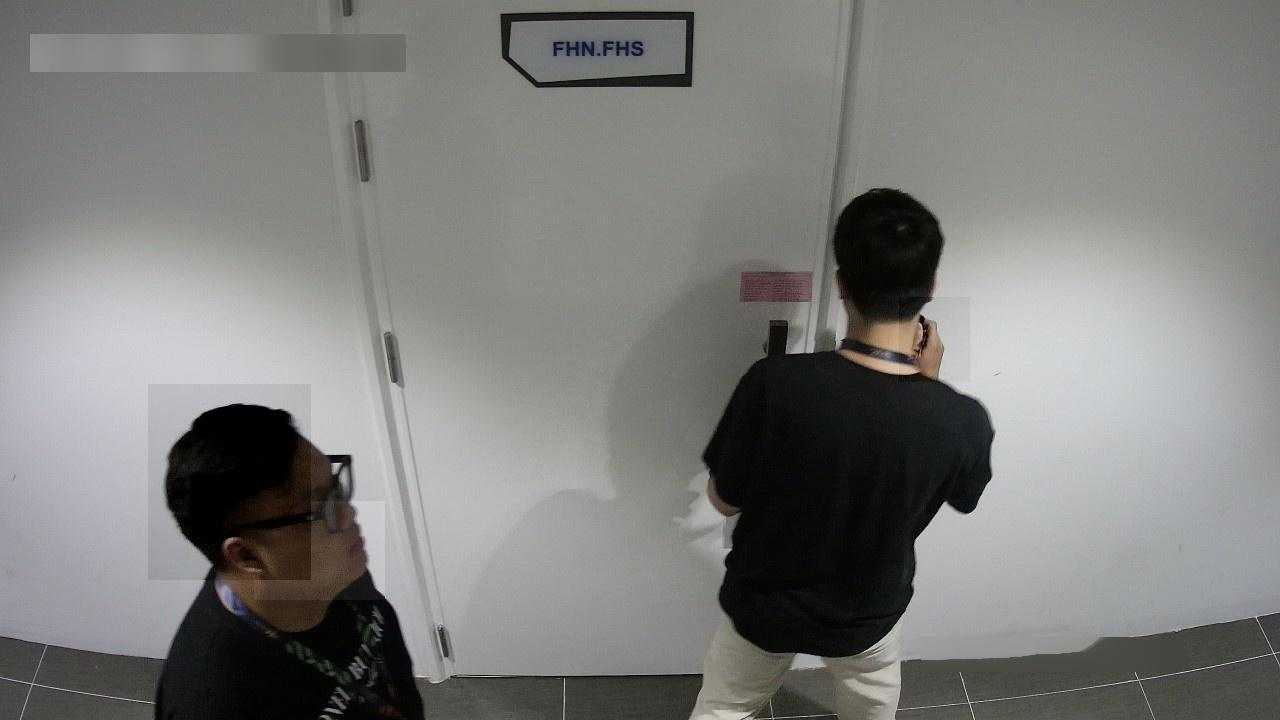no_apron: (899, 297, 970, 382)
no_gloves: (148, 385, 312, 581), (813, 167, 953, 342)
no_hairnet: (254, 502, 386, 601)
